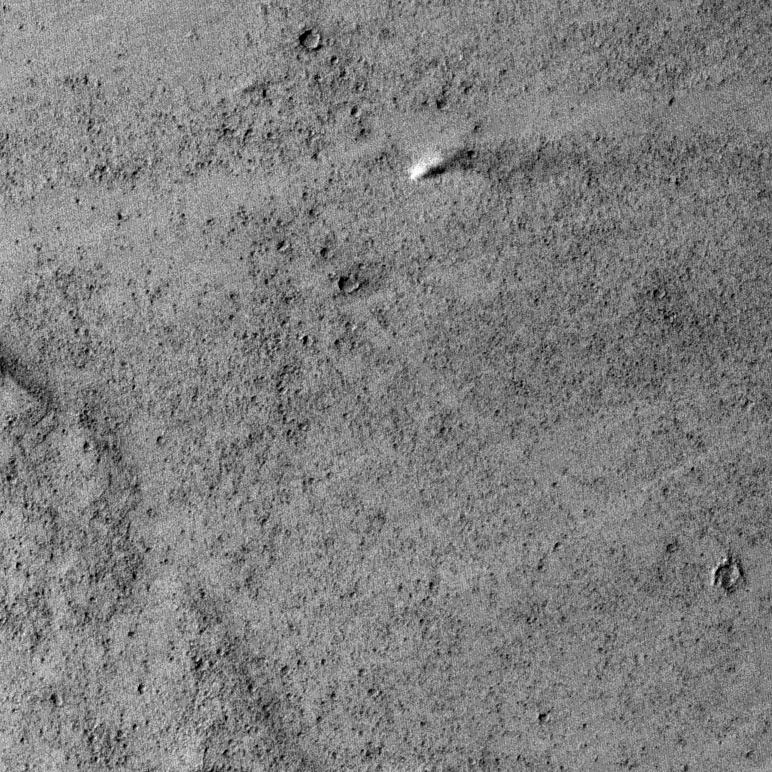dust_devil: (407, 146, 478, 182)
